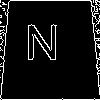N: (25, 24, 60, 70)
